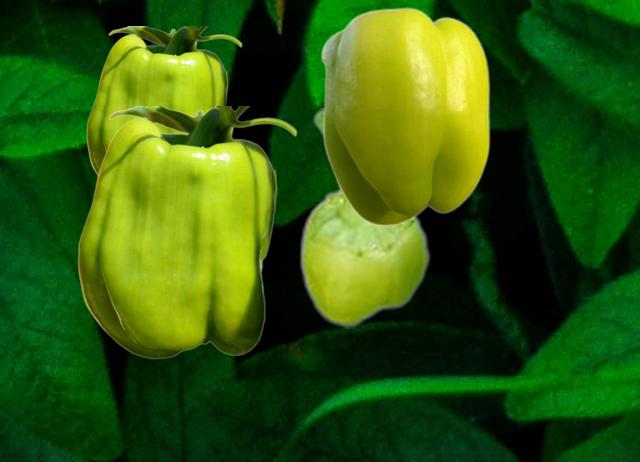bell_pepper: (77, 106, 296, 358), (320, 6, 489, 225), (298, 108, 430, 327), (86, 26, 241, 174)
